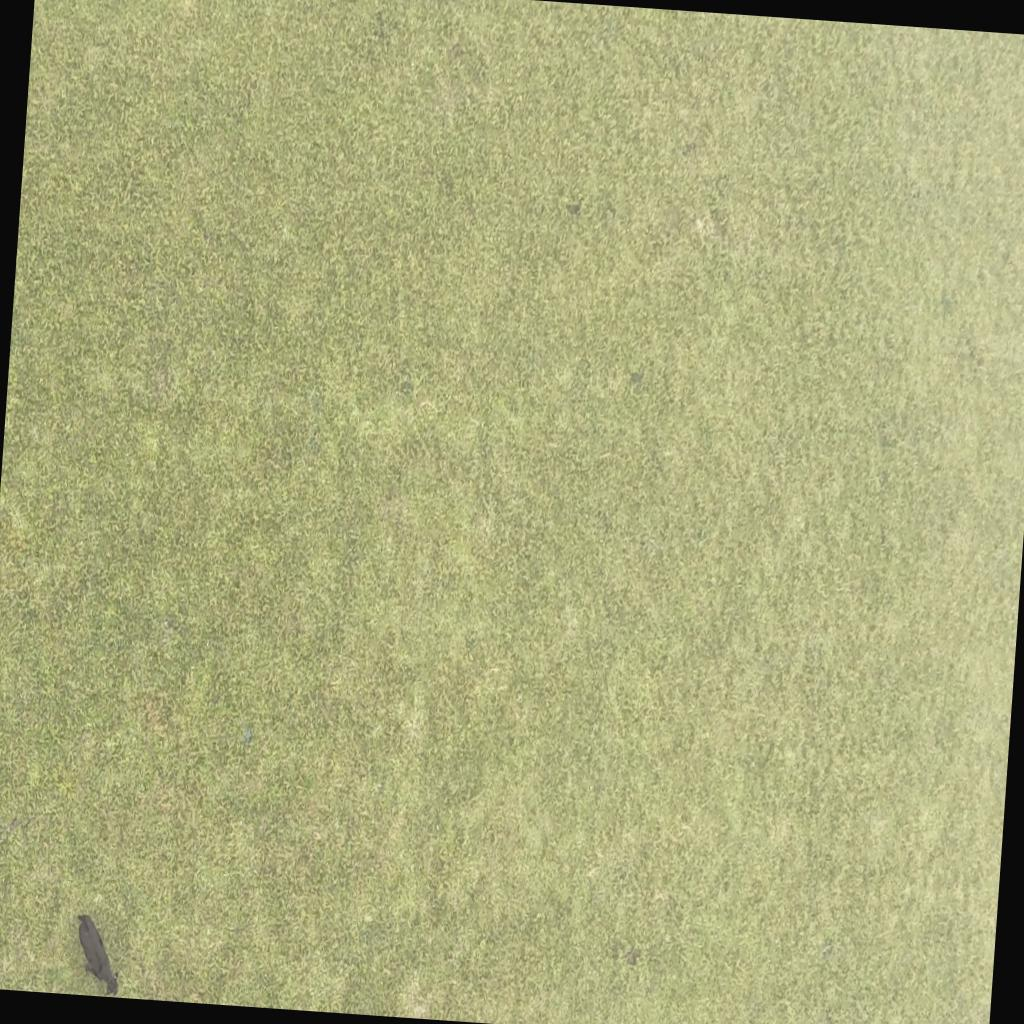cow: (71, 910, 126, 998)
